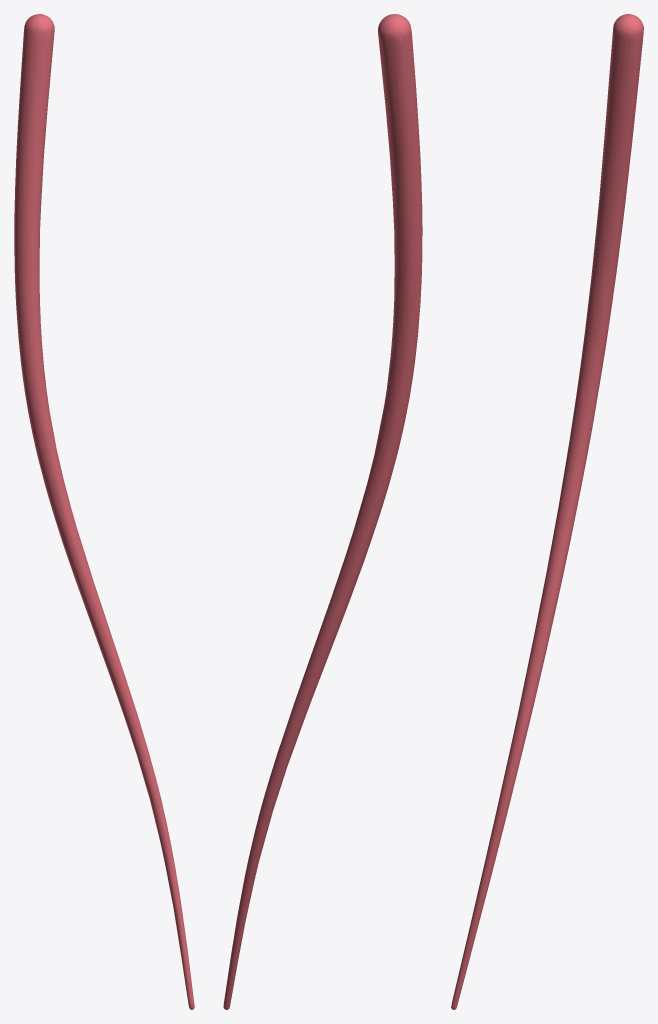
Rendered from fma71215_fj2254.glb.
3 views of the same model, side by side, from view 1: azimuth 30°, elevation 25°; view 2: azimuth 210°, elevation 25°; view 3: azimuth 270°, elevation 25° (orthographic). The views are drawn at different scales.
Parts seen in each view (by area): view 1: FMA71215_FJ2254; view 2: FMA71215_FJ2254; view 3: FMA71215_FJ2254.
Boxes of the visible parts, left/top/right/bottom form: FMA71215_FJ2254: left=14, top=14, right=194, bottom=1009; FMA71215_FJ2254: left=223, top=14, right=422, bottom=1009; FMA71215_FJ2254: left=451, top=14, right=643, bottom=1009.
Bounding box in the file's own units: 0.0116 × 0.1015 × 0.0185.
